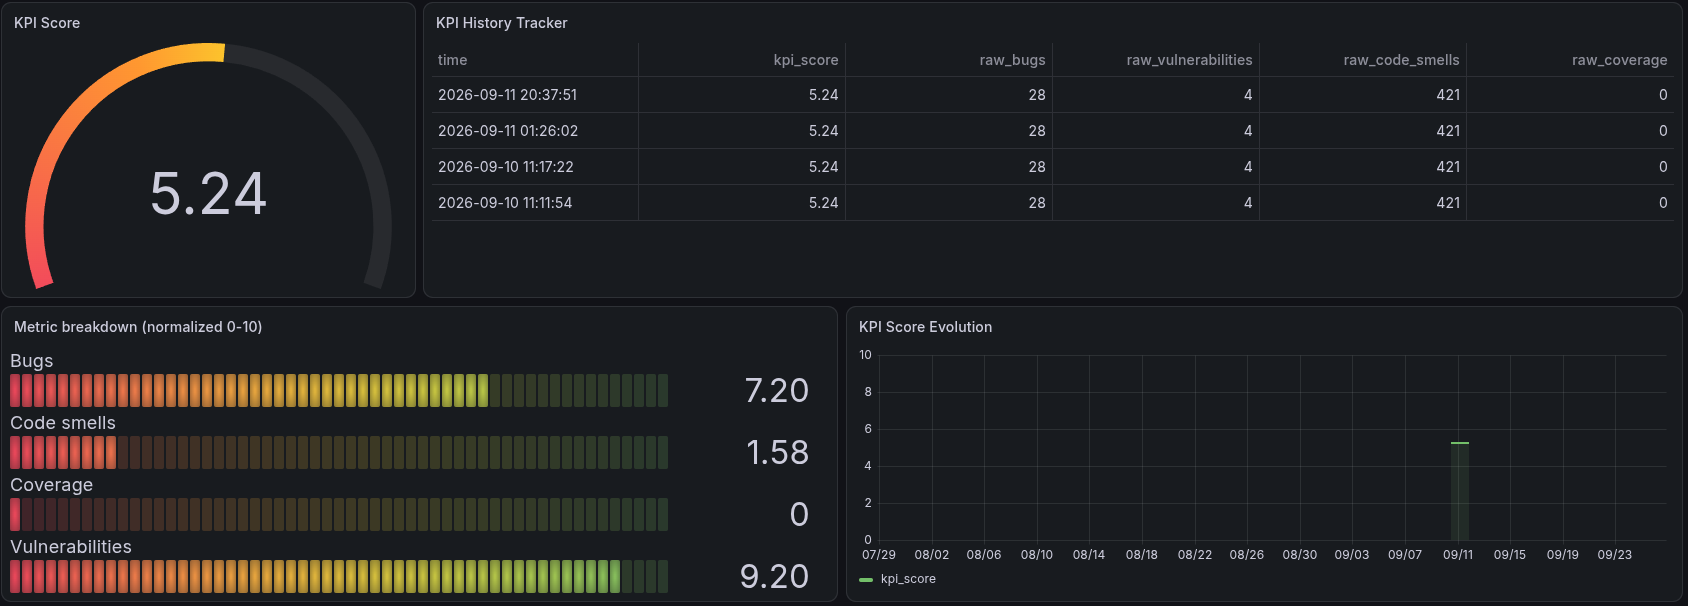

This screenshot's page, from the dashboard's own definition file:
{"tool":"powerbi","page":{"name":"KPI Score","canvas":[1920,1080],"ordinal":0},"visuals":[{"type":"gauge","title":"PreseHome Score","fields":{"Y":["kpi_history.Latest KPI Score"]},"box":[145,28.3,490,491.7],"z":0},{"type":"columnChart","title":"Main Variables Score","fields":{"Category":["Metric.MetricName"],"Y":["Metric.Latest Norm Score"]},"box":[660,28.3,1111.7,491.7],"z":1000},{"type":"lineChart","title":"Score Evolution","fields":{"Category":["kpi_history.timestamp.Variación.Date Hierarchy.Year","kpi_history.timestamp.Variación.Date Hierarchy.Quarter","kpi_history.timestamp.Variación.Date Hierarchy.Month","kpi_history.timestamp.Variación.Date Hierarchy.Day"],"Y":["kpi_history.KPI Score"]},"box":[145,540,1626.7,490],"z":2000}]}

Visuals, with their boxes on the page's 1920x1080 design canvas (x1, y1, x2, y2). These are canvas units, not pixel positions in the 1688x606 screenshot, which may show the page scaled, cropped or inside an application window:
"PreseHome Score" gauge: 145, 28, 635, 520
"Main Variables Score" columnChart: 660, 28, 1772, 520
"Score Evolution" lineChart: 145, 540, 1772, 1030
